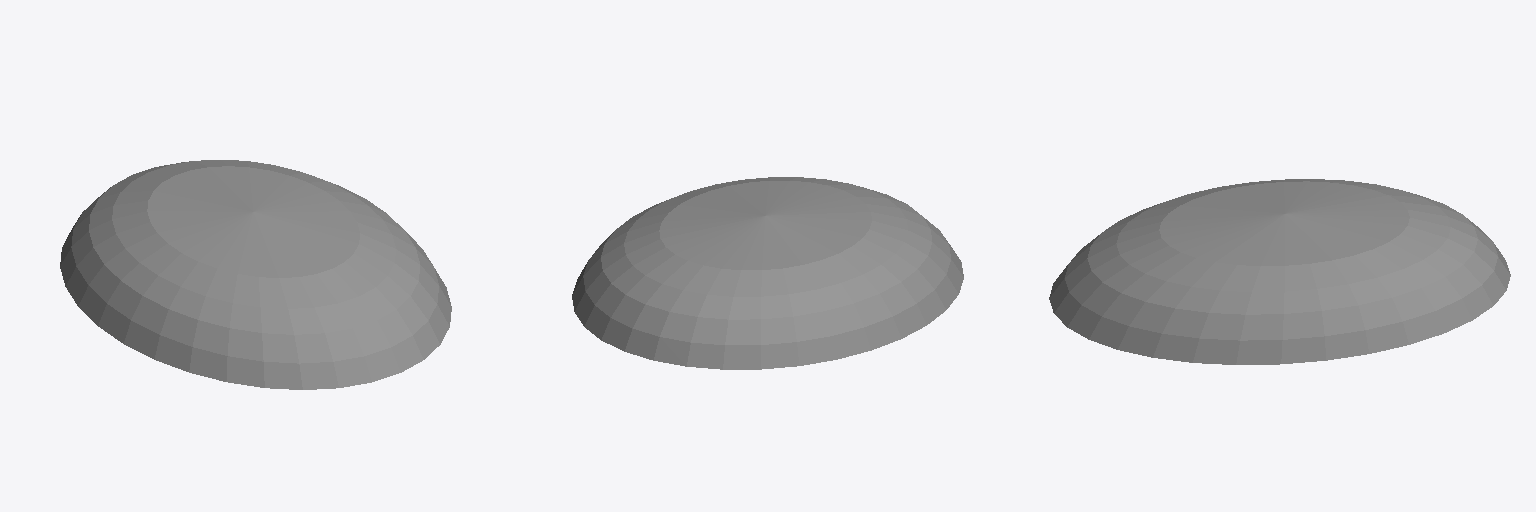
Rendered from clouds_fixed.obj.
3 views of the same model, side by side, from view 1: azimuth 30°, elevation 25°; view 2: azimuth 150°, elevation 25°; view 3: azimuth 270°, elevation 25° (orthographic).
Parts seen in each view (by area): view 1: g_frame_15; view 2: g_frame_15; view 3: g_frame_15.
Part boxes in pixels (x1,y1,x2,y2): g_frame_15: (60,160,451,389); g_frame_15: (572,177,963,369); g_frame_15: (1049,179,1510,364).
Bounding box in the file's own units: 2352 × 598 × 2964.